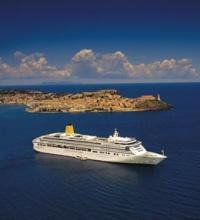youlun: (27, 125, 168, 167)
